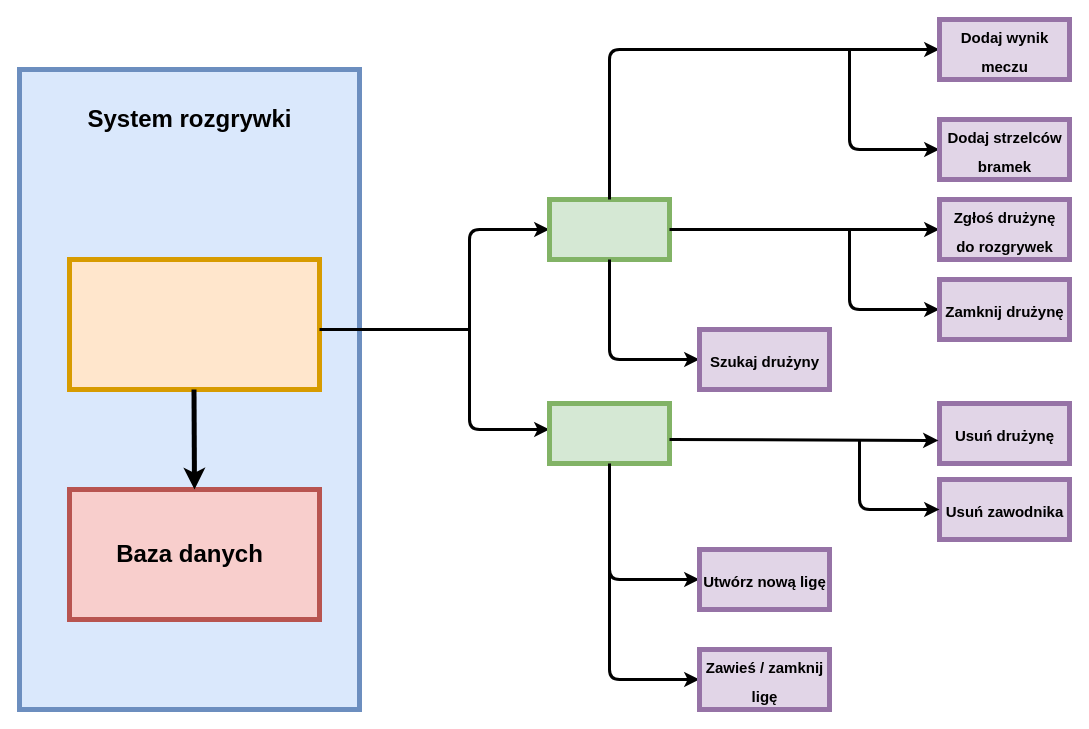
Some shapes in this 1089 by 729 pixel diagram are drawn without their labels. Each missing label, with the centre of its shape:
Administrator: the point at 609,433
Aplikacja desktopowa: the point at 194,324
Użytkownik: the point at 609,229
